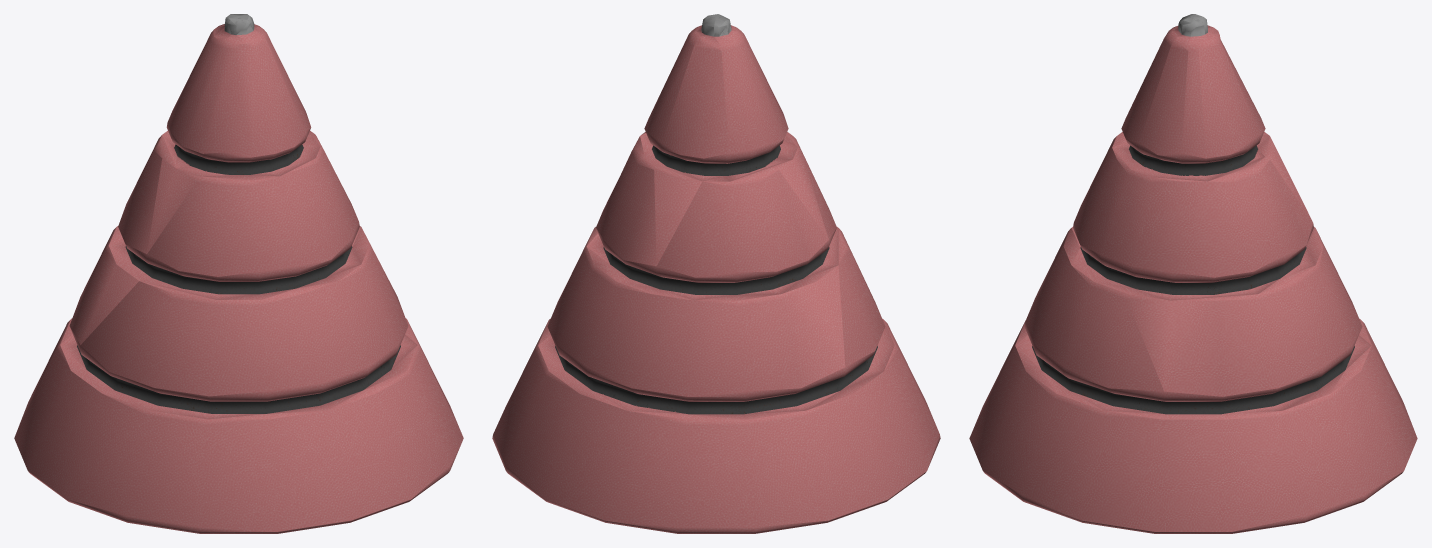
File: OBS0110299.fbx
The picture shows the model from 3 angles, left to right: view 1: azimuth 30°, elevation 25°; view 2: azimuth 150°, elevation 25°; view 3: azimuth 270°, elevation 25°; orthographic projection.
Visible parts, largest first — view 1: smOBS0110299; view 2: smOBS0110299; view 3: smOBS0110299.
Part boxes in pixels (<box>): smOBS0110299: <box>14,14,463,533</box>; smOBS0110299: <box>492,14,940,533</box>; smOBS0110299: <box>969,14,1417,533</box>.
Bounding box in the file's own units: 68.96 × 73.11 × 70.02.
1 material, 1 textured.
